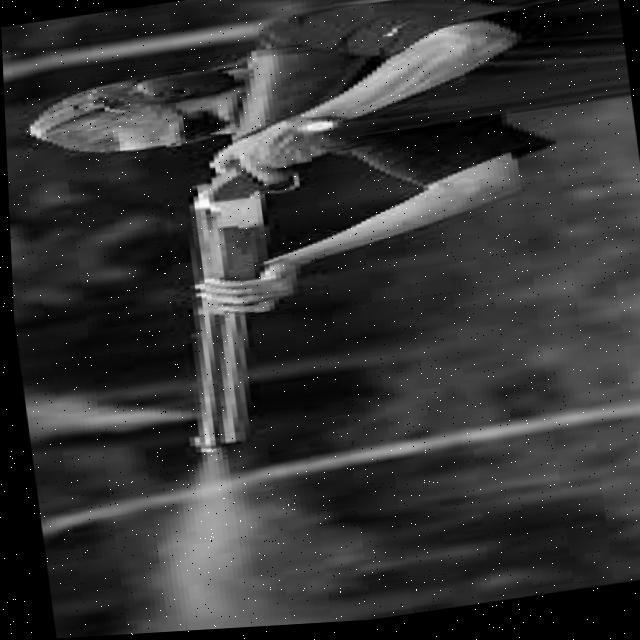firearm: (130, 34, 424, 461)
